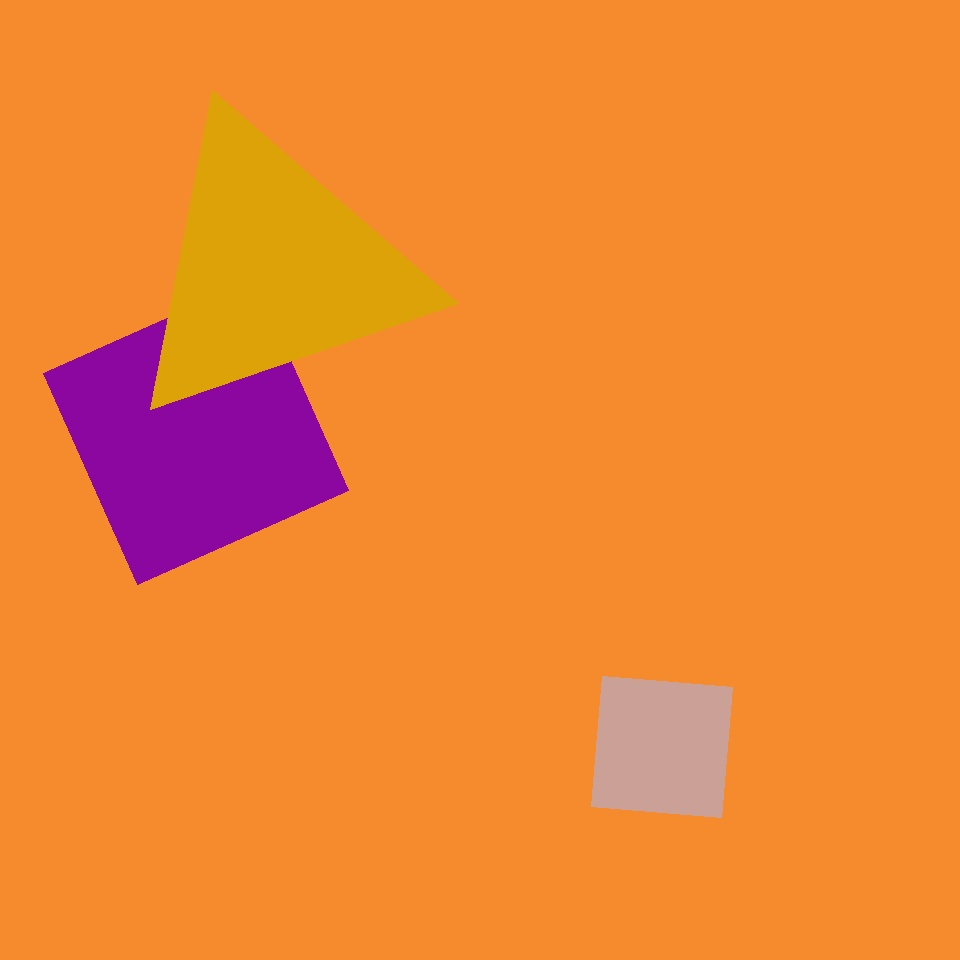circle: (120, 109, 428, 428), (699, 89, 906, 287), (306, 446, 404, 552)
square: (44, 280, 348, 584), (592, 676, 732, 818)
triangle: (114, 610, 412, 907), (112, 642, 372, 901), (456, 491, 565, 600)
